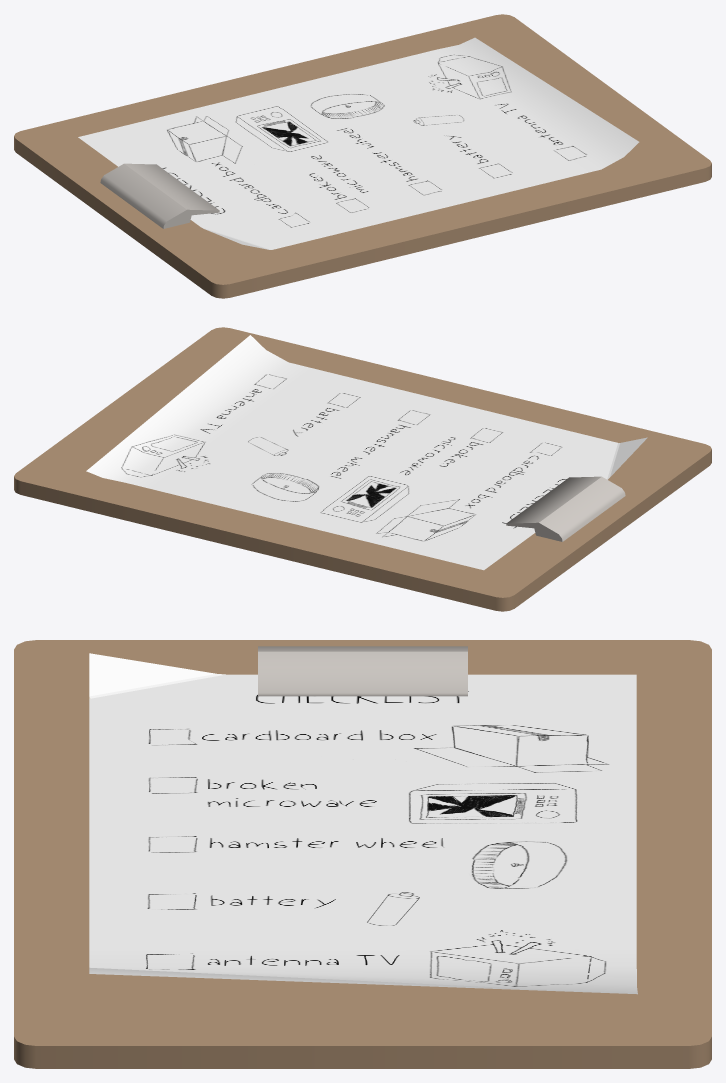
File: Clipboard_New.fbx
3 views of the same model, one above another, from view 1: azimuth 30°, elevation 25°; view 2: azimuth 150°, elevation 25°; view 3: azimuth 270°, elevation 25° (orthographic). The views are drawn at different scales.
Parts seen in each view (by area): view 1: Clipboard; view 2: Clipboard; view 3: Clipboard.
Boxes of the visible parts, <box> form: Clipboard: <box>14,14,711,298</box>; Clipboard: <box>14,327,711,611</box>; Clipboard: <box>14,640,711,1068</box>.
Bounding box in the file's own units: 27.53 × 1.79 × 20.
